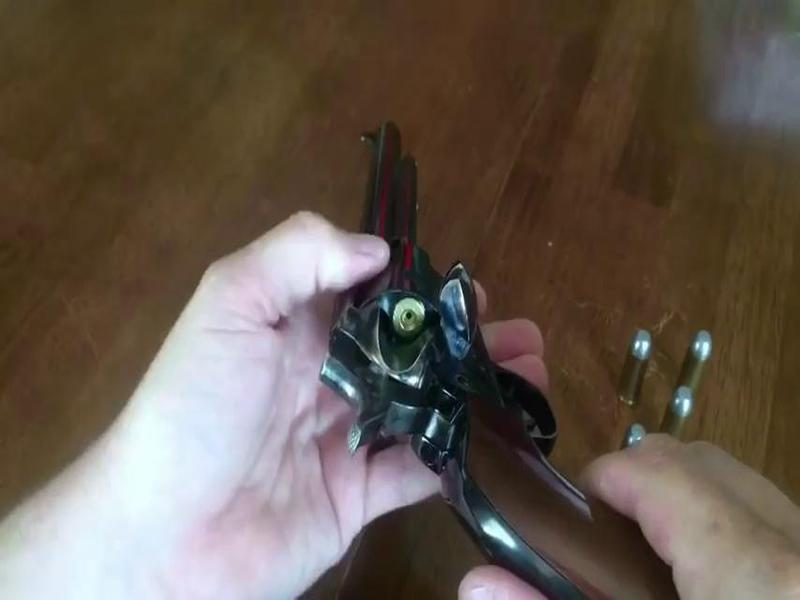Revolver: (313, 85, 575, 563)
